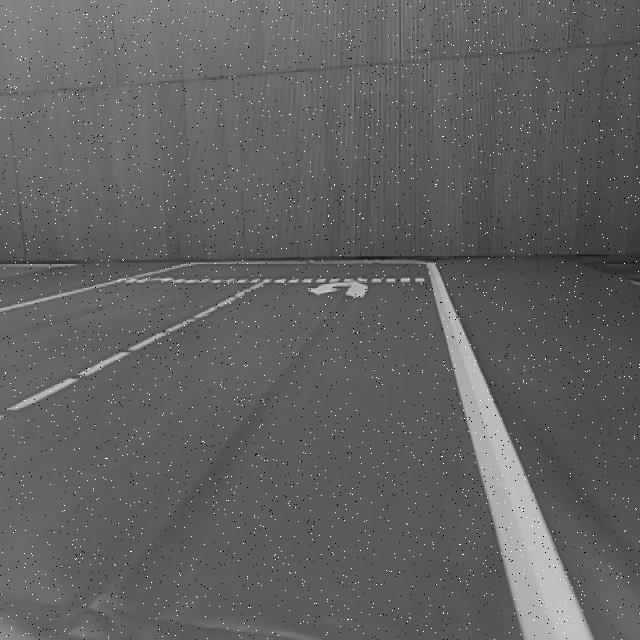left_lane: (0, 279, 266, 422)
right_lane: (430, 263, 595, 640), (0, 262, 189, 313)
